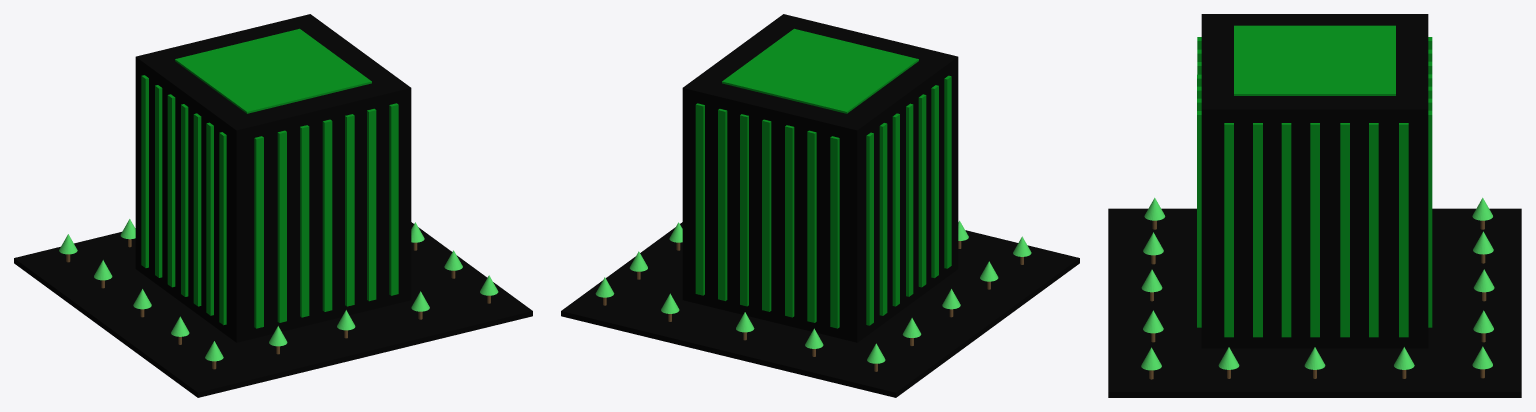
Rendered from datacenter_green.glb.
3 renders of one model, left to right at view 1: azimuth 30°, elevation 25°; view 2: azimuth 150°, elevation 25°; view 3: azimuth 270°, elevation 25°, orthographic. The views are drawn at different scales.
Visible parts, largest first — view 1: stick.003; view 2: stick.003; view 3: stick.003.
Part boxes in pixels (bbox=[...]): stick.003: bbox=[14, 14, 532, 397]; stick.003: bbox=[561, 14, 1079, 397]; stick.003: bbox=[1108, 14, 1521, 397].
Size of the model in its own units: 26.83 by 16.79 by 25.52.
